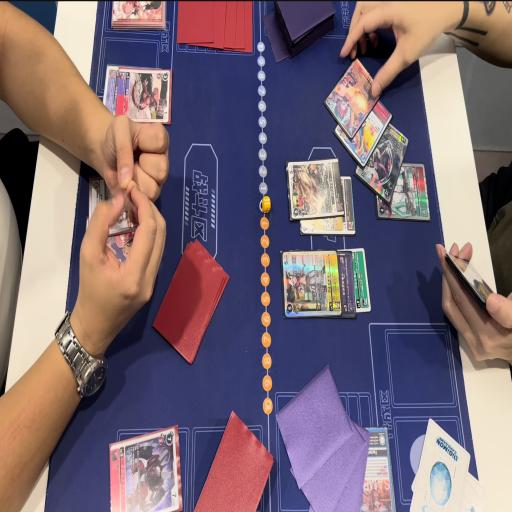card: (109, 423, 187, 512), (85, 152, 144, 239), (276, 248, 340, 323), (356, 122, 410, 204), (324, 61, 380, 133), (336, 94, 389, 167), (355, 423, 397, 512), (300, 174, 354, 239), (283, 159, 342, 218), (118, 69, 176, 128), (376, 165, 430, 224), (100, 224, 146, 269), (354, 240, 369, 322), (337, 245, 351, 325), (104, 66, 120, 126)
